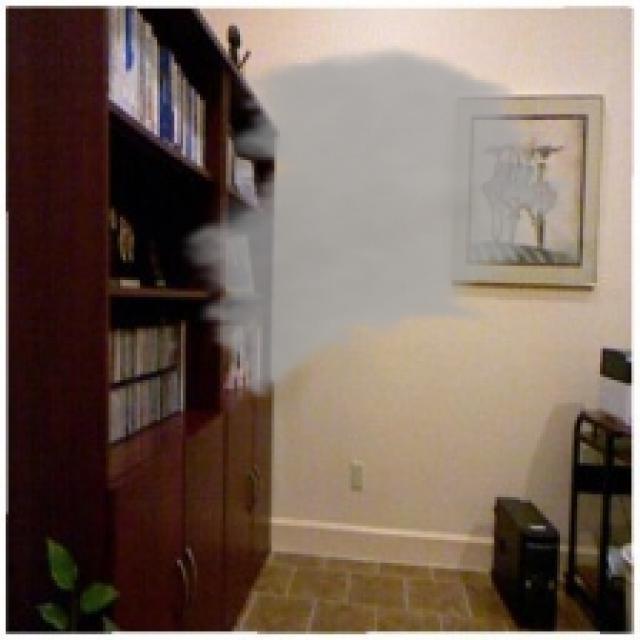Smoke: (171, 43, 583, 400)
